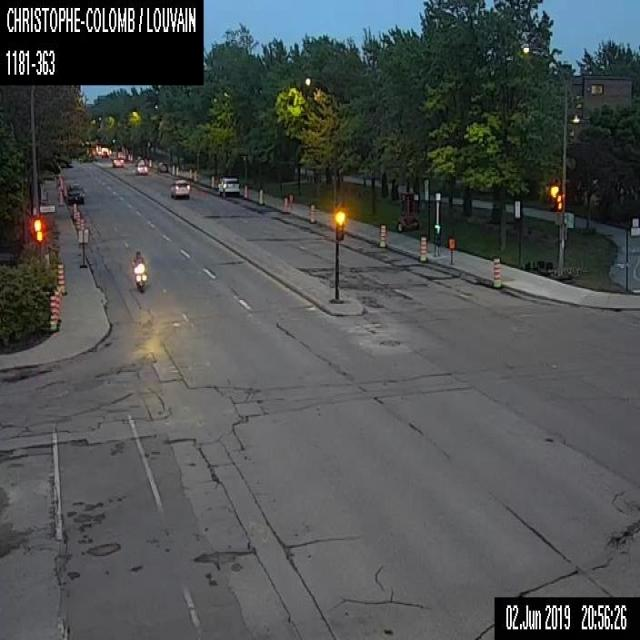construction: (396, 191, 418, 230), (77, 228, 88, 268), (491, 255, 501, 289), (49, 295, 58, 331), (57, 260, 66, 295), (418, 234, 426, 262), (378, 222, 386, 246), (448, 236, 454, 264), (309, 202, 315, 223), (74, 210, 80, 229), (282, 196, 287, 212), (72, 202, 76, 220), (258, 187, 262, 205), (242, 184, 247, 198), (58, 189, 62, 205), (79, 218, 84, 229), (210, 175, 214, 188), (63, 183, 66, 197), (189, 167, 192, 180), (175, 164, 178, 176), (193, 170, 196, 182), (171, 164, 174, 174)
vehicle: (130, 249, 147, 292), (215, 176, 240, 197), (170, 177, 189, 199), (66, 182, 84, 204), (134, 160, 147, 175), (111, 155, 124, 168), (156, 160, 168, 172)
